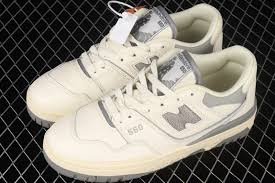new_balance_550_grey: (42, 44, 259, 182)
